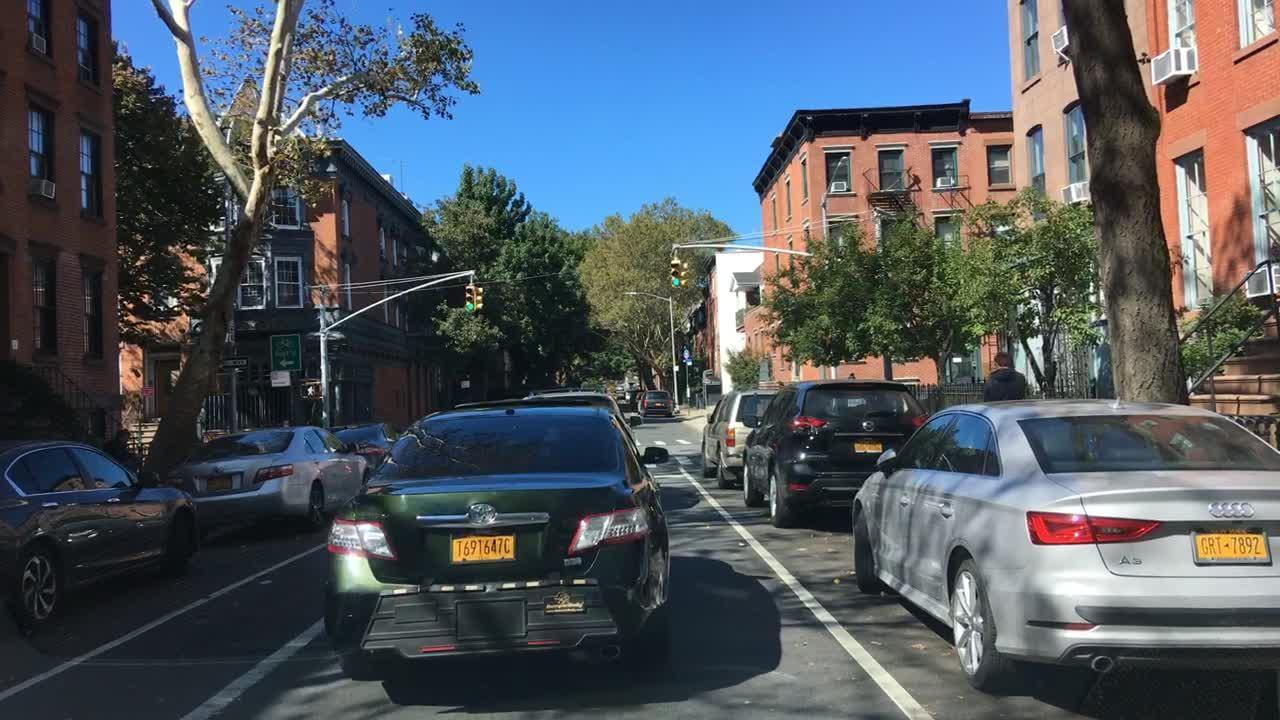Audi: (1200, 493, 1262, 524)
Mazda: (859, 420, 886, 433)
Toyota: (464, 501, 504, 526)
